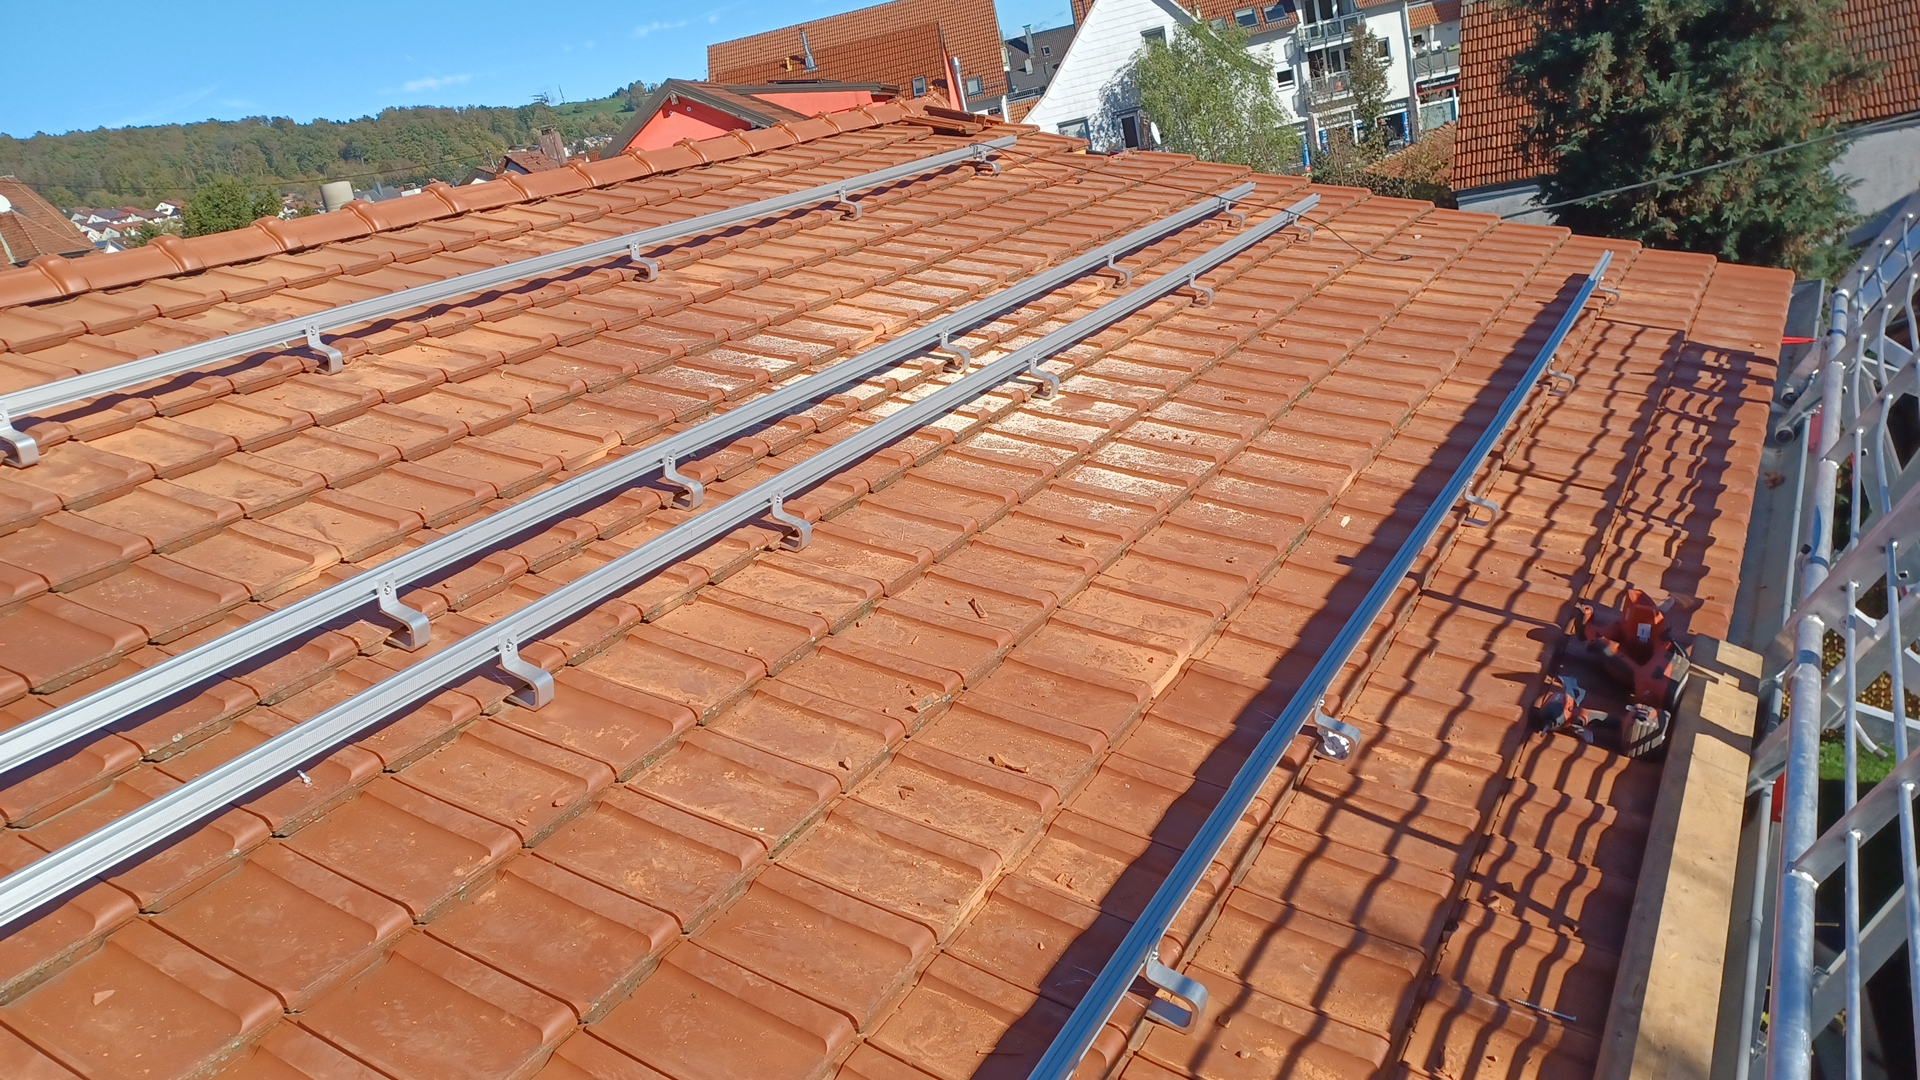hook: (1145, 928, 1208, 1036), (498, 629, 554, 712), (376, 572, 431, 651), (1313, 684, 1361, 765), (770, 487, 812, 553), (1, 402, 40, 469), (663, 448, 703, 512), (305, 319, 343, 375), (1462, 477, 1498, 529), (1029, 349, 1060, 400), (940, 324, 971, 375), (629, 237, 658, 282), (1545, 356, 1575, 397), (1188, 268, 1213, 309), (1108, 249, 1131, 287), (840, 185, 862, 222), (975, 146, 1001, 177), (1597, 276, 1619, 307), (1294, 214, 1313, 245), (1225, 200, 1245, 231)
